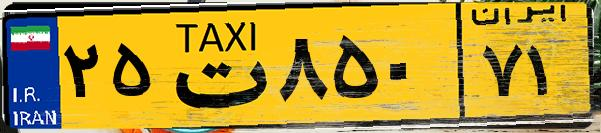0: (385, 28, 445, 110)
1: (525, 38, 570, 115)
2: (57, 26, 110, 100)
5: (330, 28, 385, 110), (110, 28, 158, 98)
7: (475, 38, 525, 113)
8: (270, 28, 330, 110)
ت: (158, 12, 270, 120)
